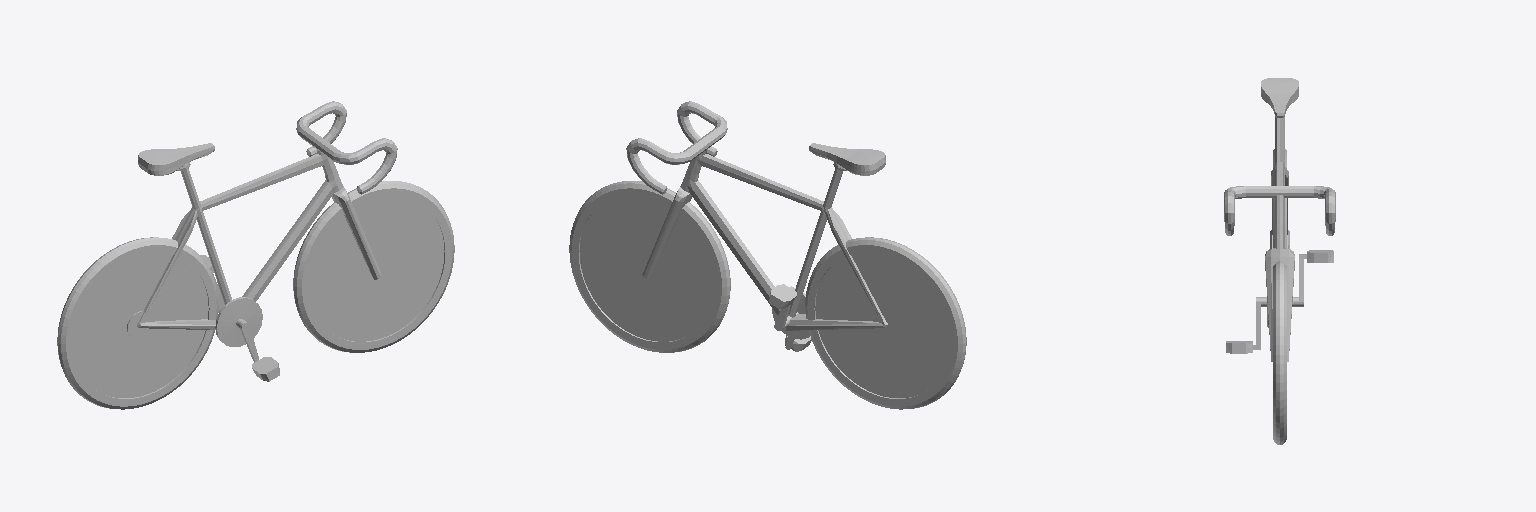
File: bicycle.obj
The picture shows the model from 3 angles: view 1: azimuth 30°, elevation 25°; view 2: azimuth 150°, elevation 25°; view 3: azimuth 270°, elevation 25°; orthographic projection.
Visible parts, largest first — view 1: pCylinder1 bicycle_GEO, bicycle_GEO pCylinder7, bicycle_GEO pCylinder2, bicycle_GEO pCylinder8, bicycle_GEO pCylinder6, bicycle_GEO pCube1; view 2: pCylinder1 bicycle_GEO, bicycle_GEO pCylinder7, bicycle_GEO pCylinder2, bicycle_GEO pCylinder8, bicycle_GEO pCube1, bicycle_GEO pCylinder6; view 3: bicycle_GEO pCylinder2, pCylinder1 bicycle_GEO, bicycle_GEO pCylinder8, bicycle_GEO pCylinder6, bicycle_GEO pCube1.
Part boxes in pixels (x1,y1,x2,y2): pCylinder1 bicycle_GEO: (293,181,454,352); bicycle_GEO pCylinder7: (57,237,218,409); bicycle_GEO pCylinder2: (137,150,381,329); bicycle_GEO pCylinder8: (296,101,397,194); bicycle_GEO pCylinder6: (200,255,279,381); bicycle_GEO pCube1: (138,143,214,175); pCylinder1 bicycle_GEO: (569,181,730,352); bicycle_GEO pCylinder7: (805,237,966,409); bicycle_GEO pCylinder2: (642,150,887,330); bicycle_GEO pCylinder8: (626,101,727,194); bicycle_GEO pCube1: (809,143,885,175); bicycle_GEO pCylinder6: (769,284,811,351); bicycle_GEO pCylinder2: (1265,117,1294,361); pCylinder1 bicycle_GEO: (1273,261,1286,444); bicycle_GEO pCylinder8: (1224,186,1335,235); bicycle_GEO pCylinder6: (1226,250,1333,353); bicycle_GEO pCube1: (1261,78,1298,117).
Size of the model in its own units: 53.26 by 31.71 by 13.09.